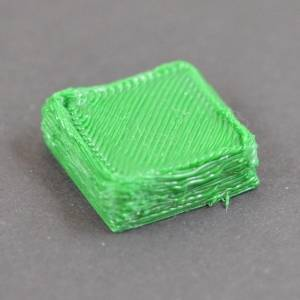3dpoverextrusion: (118, 167, 243, 219)
3dptoplayergaps: (80, 92, 230, 162)
